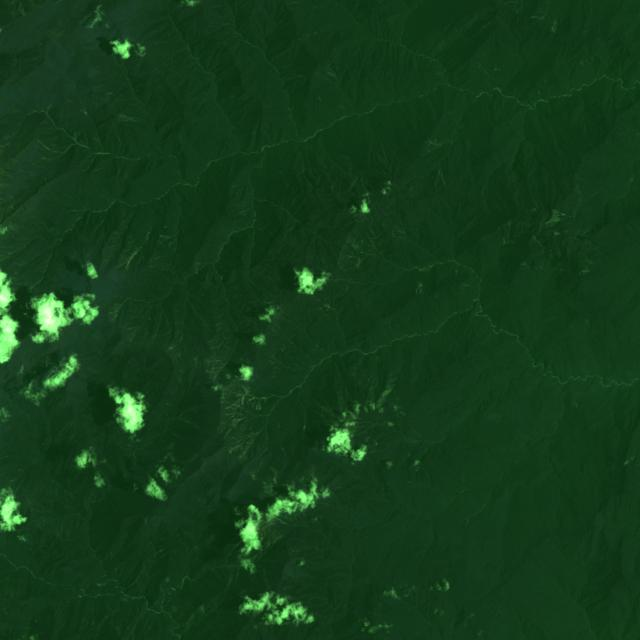landslides: (311, 397, 342, 422), (240, 428, 262, 459), (223, 414, 248, 438), (229, 432, 257, 452), (106, 86, 131, 106), (141, 27, 165, 46), (354, 423, 386, 435), (37, 140, 63, 154), (574, 216, 589, 240), (63, 194, 85, 210), (257, 566, 279, 582), (173, 417, 200, 430), (167, 427, 192, 441), (334, 568, 353, 586), (356, 252, 375, 270), (45, 201, 79, 210), (415, 305, 438, 318), (254, 625, 275, 639), (164, 49, 185, 63), (263, 571, 275, 594), (213, 622, 233, 635), (320, 307, 337, 322), (13, 476, 25, 496), (222, 568, 234, 587), (252, 566, 262, 588), (346, 246, 360, 261), (0, 455, 19, 466), (245, 567, 256, 584), (311, 519, 324, 532), (531, 235, 543, 249), (51, 219, 65, 231), (348, 238, 362, 250), (9, 470, 24, 481), (176, 550, 190, 561), (178, 536, 189, 550), (480, 65, 491, 79), (553, 209, 570, 217), (171, 56, 186, 65), (284, 75, 303, 82), (119, 113, 138, 120), (274, 408, 280, 429), (204, 359, 225, 365), (34, 477, 51, 484), (316, 72, 329, 81), (218, 23, 234, 30), (40, 129, 56, 136), (96, 88, 118, 93), (281, 441, 287, 459), (304, 566, 331, 570), (206, 98, 215, 110), (439, 164, 444, 185), (434, 168, 439, 189), (370, 217, 375, 238), (425, 139, 438, 147)
